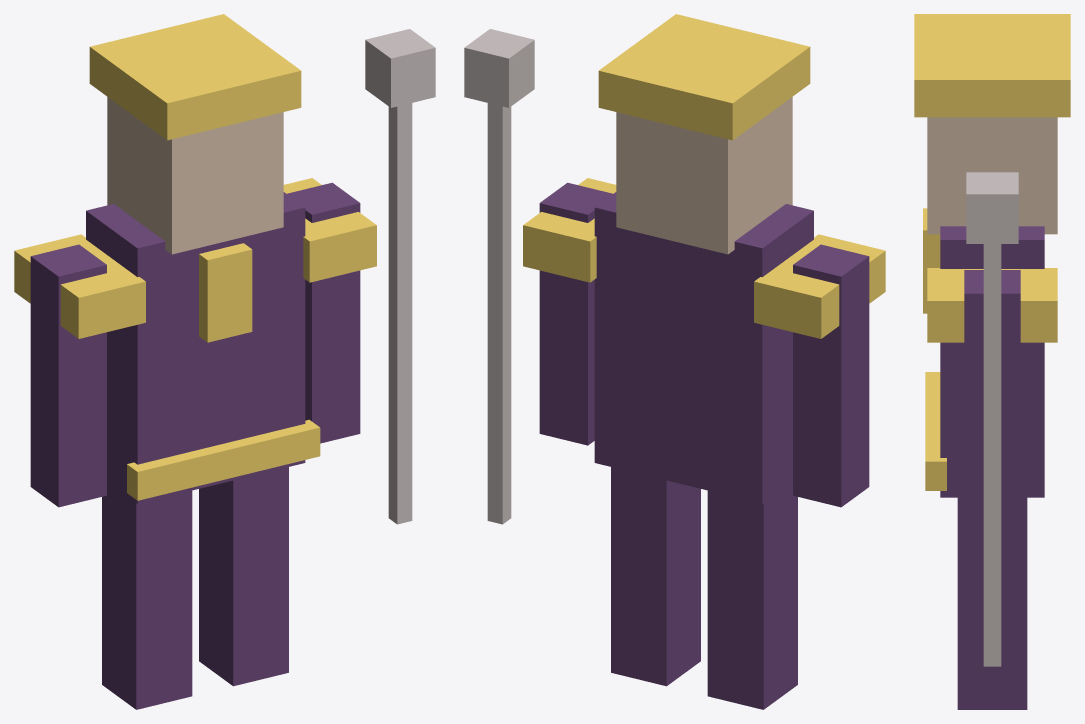
Rendered from 09_brant_chromabell_runner_under_street.glb.
The picture shows the model from 3 angles, left to right: view 1: azimuth 30°, elevation 25°; view 2: azimuth 150°, elevation 25°; view 3: azimuth 270°, elevation 25°; orthographic projection.
Visible parts, largest first — view 1: Brant Chromabell, Runner under Street; view 2: Brant Chromabell, Runner under Street; view 3: Brant Chromabell, Runner under Street.
Part boxes in pixels (x1,y1,x2,y2): Brant Chromabell, Runner under Street: (14,14,435,709); Brant Chromabell, Runner under Street: (464,14,885,709); Brant Chromabell, Runner under Street: (914,14,1070,709).
Bounding box in the file's own units: 0.941 × 1.47 × 0.3337.
